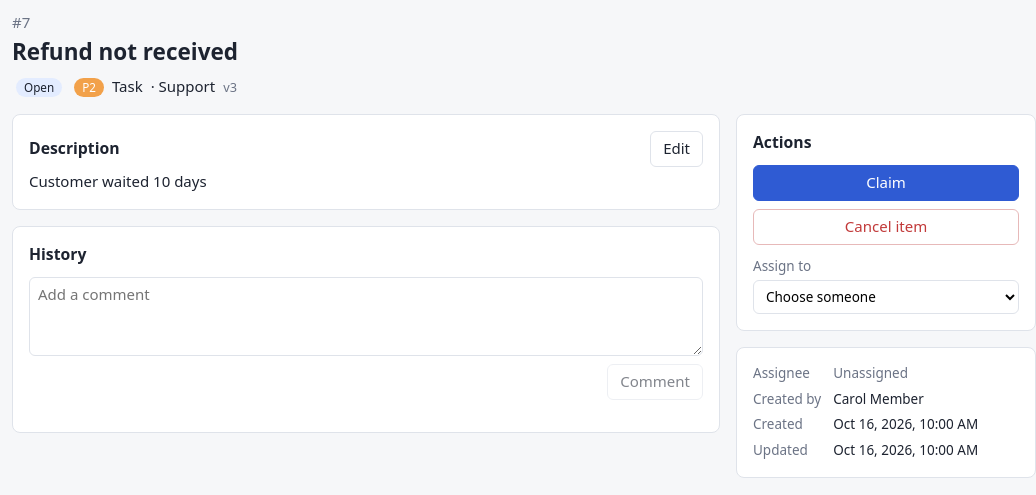
Test: a stale transition shows a conflict notice and the server's current item
The image size is (1036, 495).
Click the button "Cancel item": (886, 227) [753,209,1019,245]
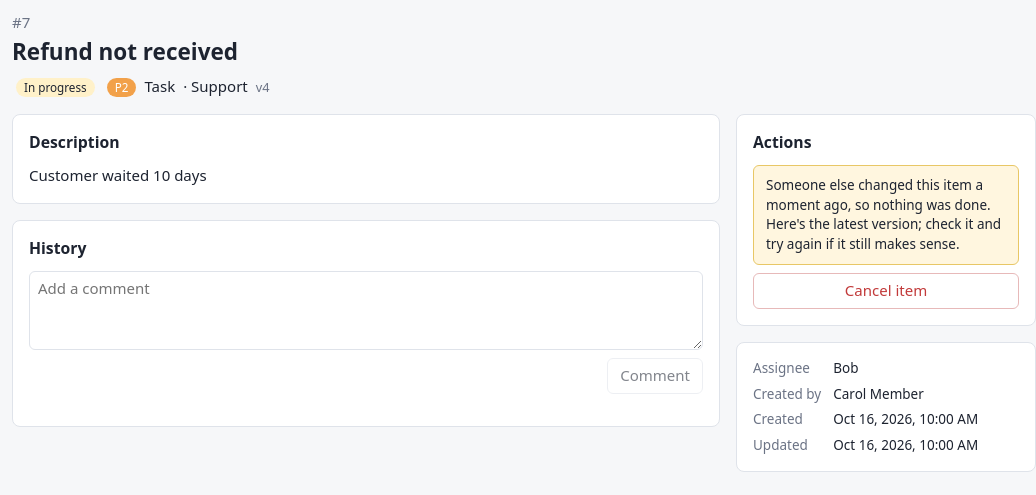
Now the text "Someone else changed this item" is shown, box [766,176,1001,253]
Now the text "v4" is shown, box [256,78,270,96]
Now the text "Bob" is shown, box [833,359,859,377]
